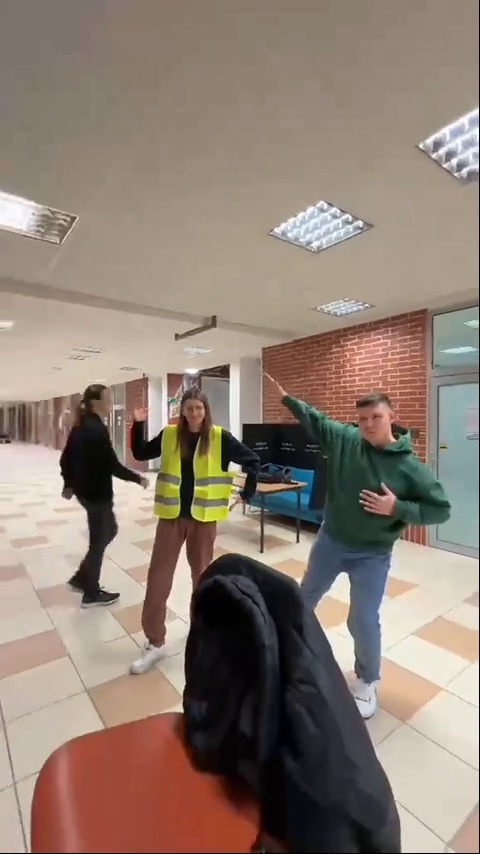no vest: (285, 376, 453, 714), (54, 375, 146, 614)
vest: (141, 392, 250, 662)
